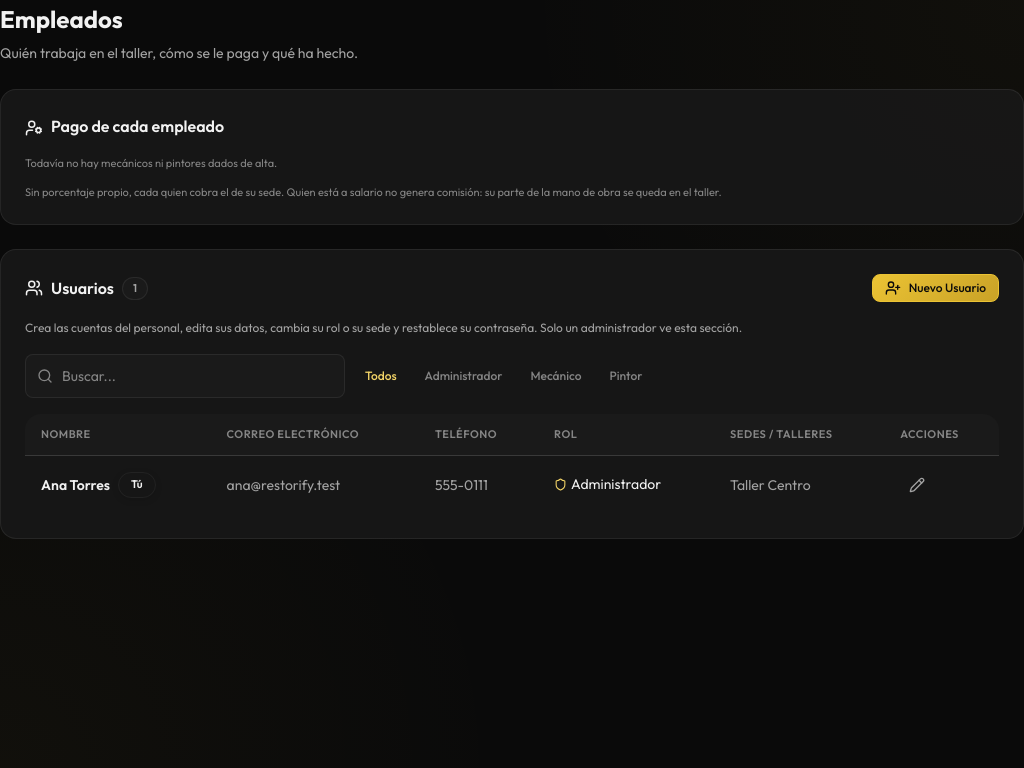
User administration dialog › explains what is missing instead of doing nothing when a field is blank
The width and height of the screenshot is (1024, 768).
Click the button "Nuevo Usuario".
click(935, 288)  # box [872,274,999,302]
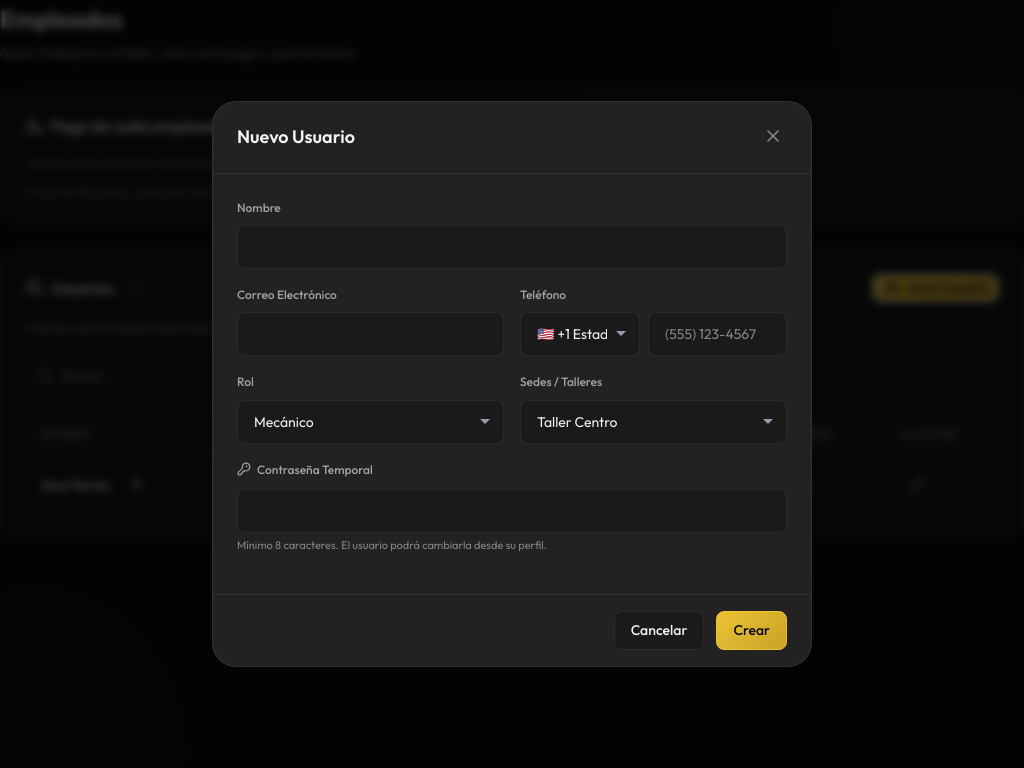
Click the button "Crear".
click(752, 630)  # box [716,611,787,650]
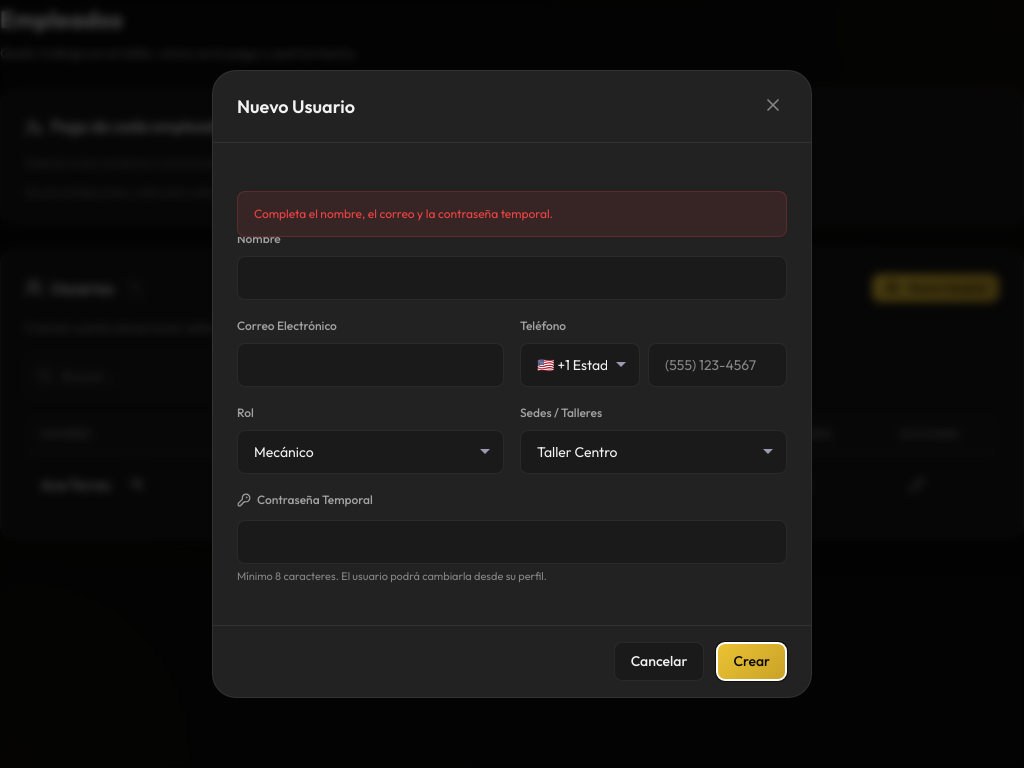
Now the message "Completa el nombre, el correo y la contraseña temporal." is shown, box [237,192,787,237]
Now the message reads "Completa el nombre, el correo y la contraseña temporal.", box [254,206,553,222]
